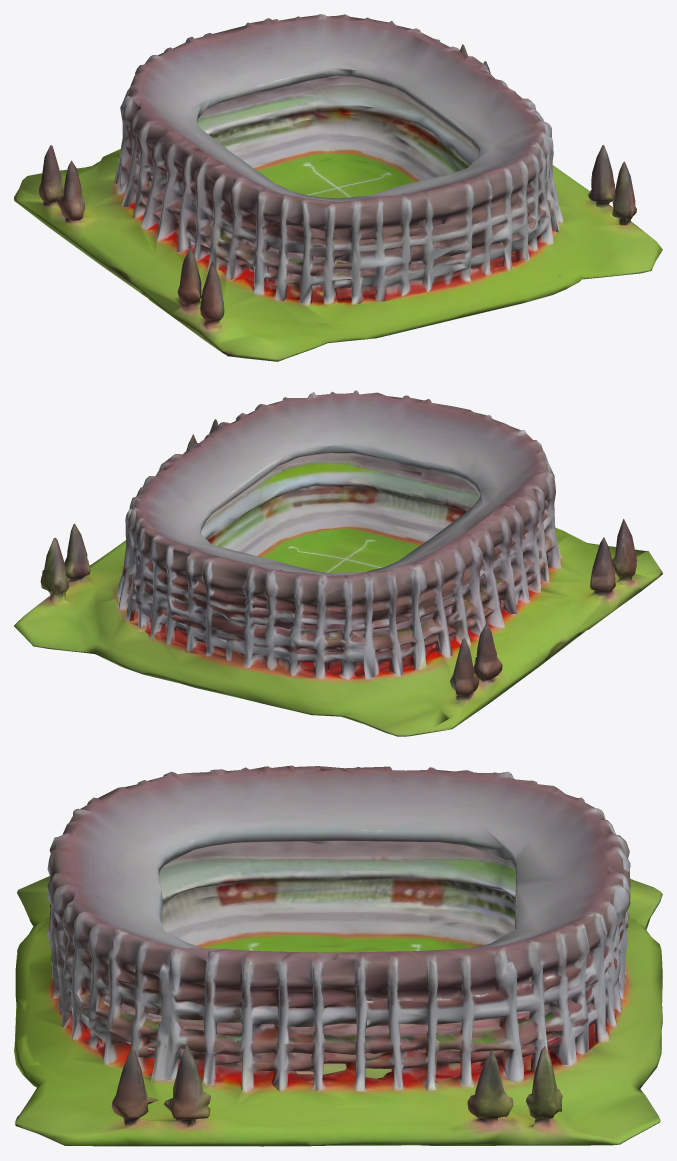
The model's file is landmark-estadio.glb.
3 renders of one model, top to bottom at view 1: azimuth 30°, elevation 25°; view 2: azimuth 150°, elevation 25°; view 3: azimuth 270°, elevation 25°, orthographic. The views are drawn at different scales.
Size of the model in its own units: 2 by 0.5413 by 2.
Materials: 1 (1 with a texture image).
